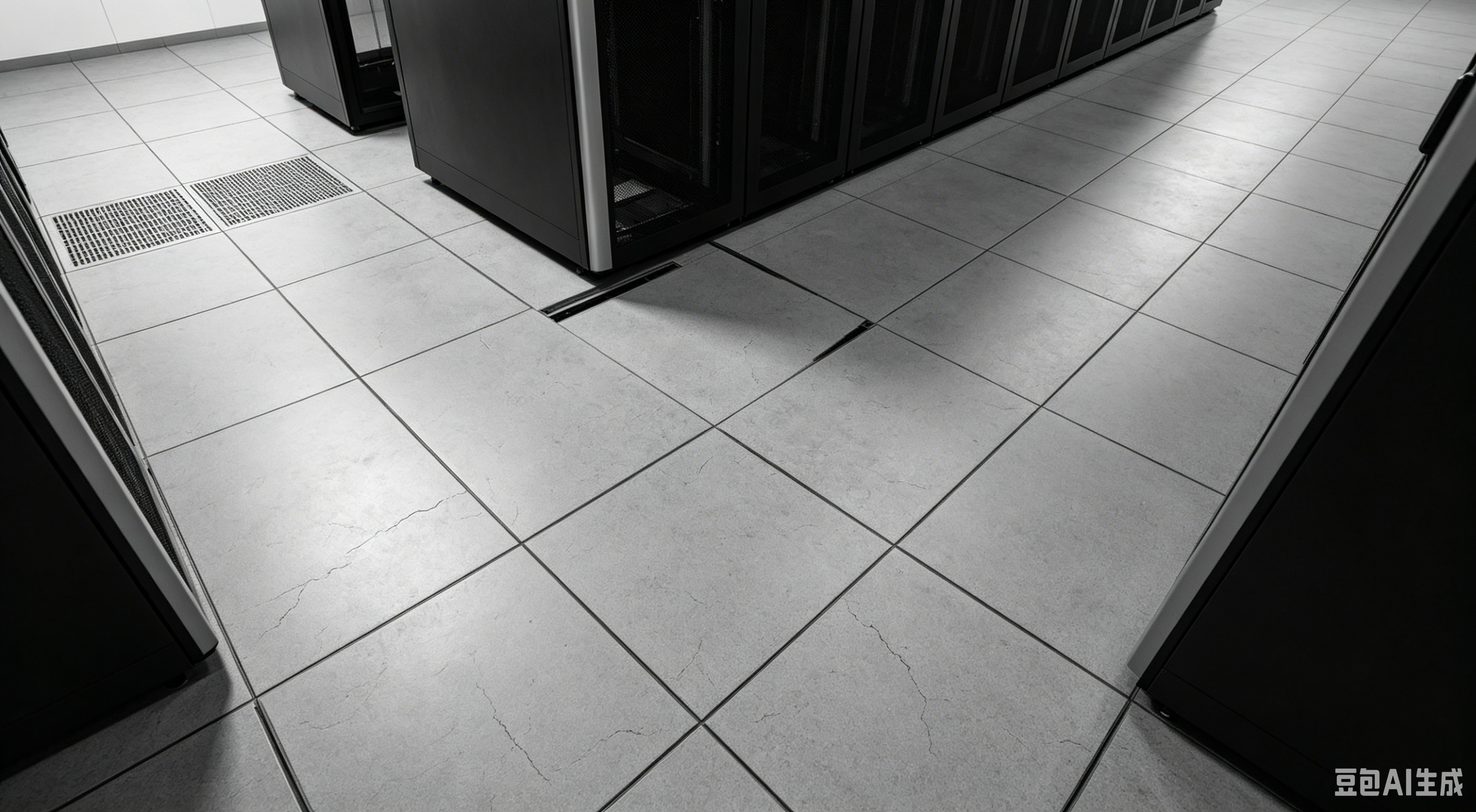floor_defect: (519, 254, 877, 422), (472, 687, 572, 787), (291, 534, 384, 588), (381, 491, 467, 537), (253, 580, 315, 630), (874, 641, 918, 696), (840, 603, 884, 641), (918, 700, 940, 772)
